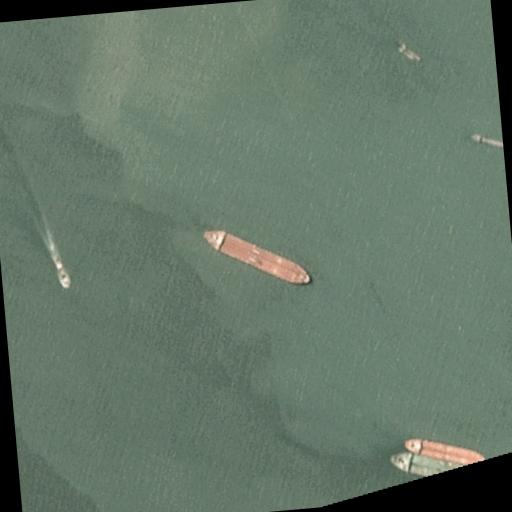ship: (0, 96, 56, 253), (202, 221, 310, 291), (49, 252, 72, 290)
